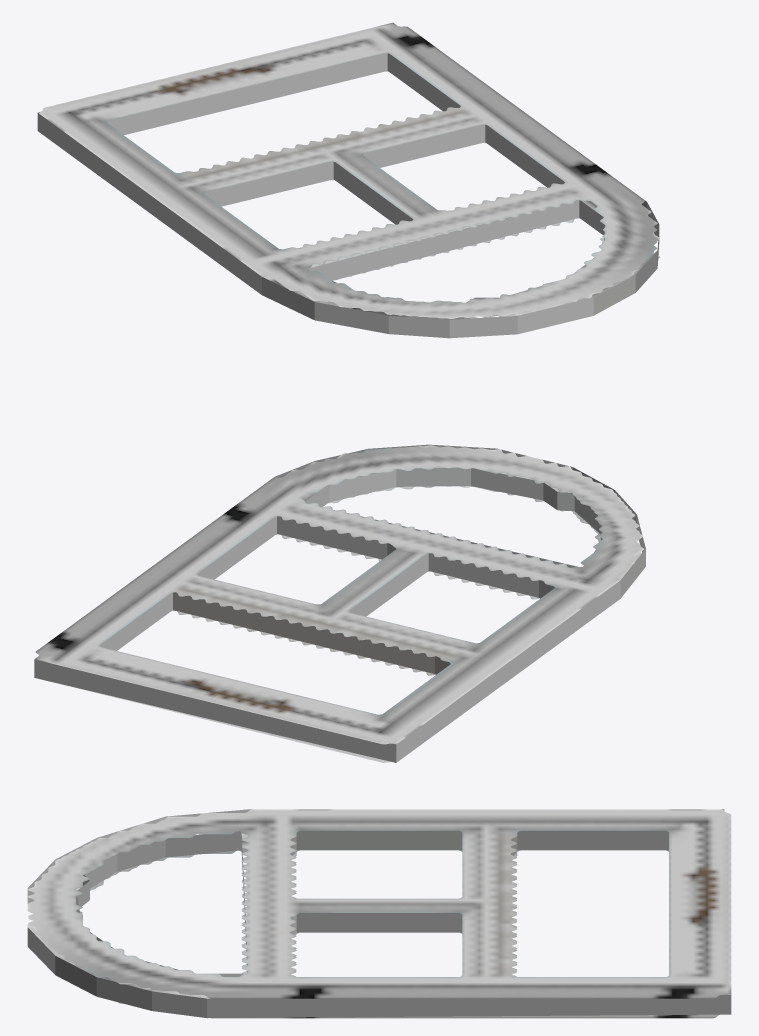
The model's file is pz_native_fixtures_windows_white_19_frame.obj.
The picture shows the model from 3 angles, top to bottom: view 1: azimuth 30°, elevation 25°; view 2: azimuth 150°, elevation 25°; view 3: azimuth 270°, elevation 25°; orthographic projection. The views are drawn at different scales.
Visible parts, largest first — view 1: pz_native_fixtures_windows_white_19_frame; view 2: pz_native_fixtures_windows_white_19_frame; view 3: pz_native_fixtures_windows_white_19_frame.
Part boxes in pixels (x1=…): pz_native_fixtures_windows_white_19_frame: x1=37, y1=22, x2=659, y2=338; pz_native_fixtures_windows_white_19_frame: x1=34, y1=444, x2=645, y2=762; pz_native_fixtures_windows_white_19_frame: x1=27, y1=809, x2=731, y2=1018.
Size of the model in its own units: 0.875 by 0.04 by 1.35.
1 material, 1 textured.
